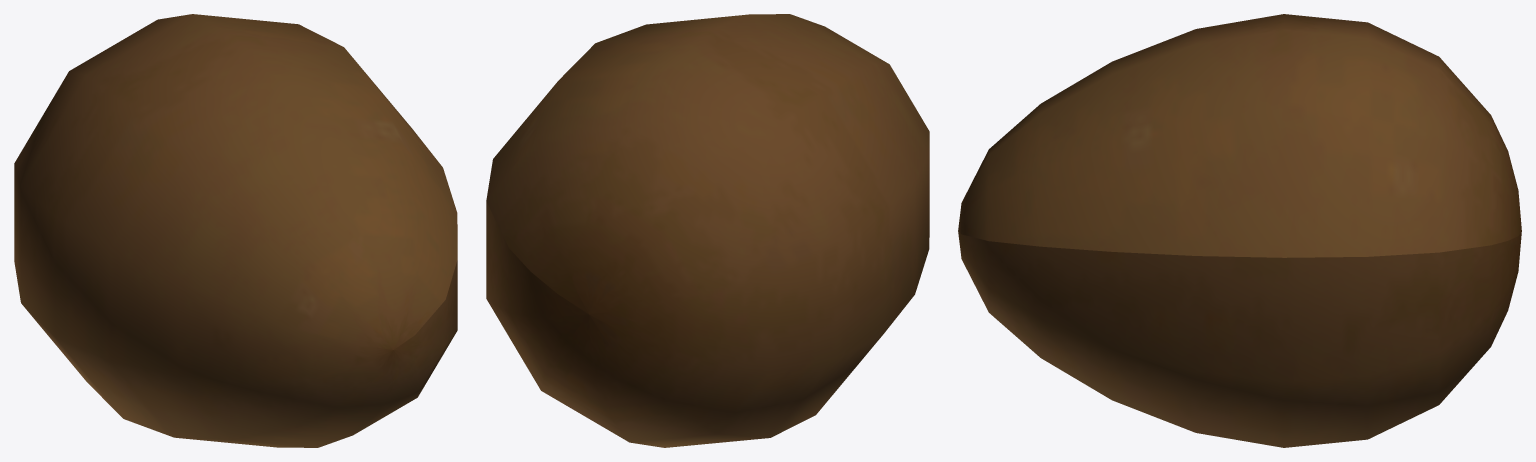
Rendered from huevo_3.fbx.
The picture shows the model from 3 angles, left to right: view 1: azimuth 30°, elevation 25°; view 2: azimuth 150°, elevation 25°; view 3: azimuth 270°, elevation 25°; orthographic projection.
Visible parts, largest first — view 1: s4studio_mesh_0; view 2: s4studio_mesh_0; view 3: s4studio_mesh_0.
Part boxes in pixels (x1,y1,x2,y2): s4studio_mesh_0: (14, 14, 457, 447); s4studio_mesh_0: (486, 14, 929, 447); s4studio_mesh_0: (958, 14, 1521, 447).
Size of the model in its own units: 5.59 by 5.88 by 7.5.
Materials: 1 (1 with a texture image).
